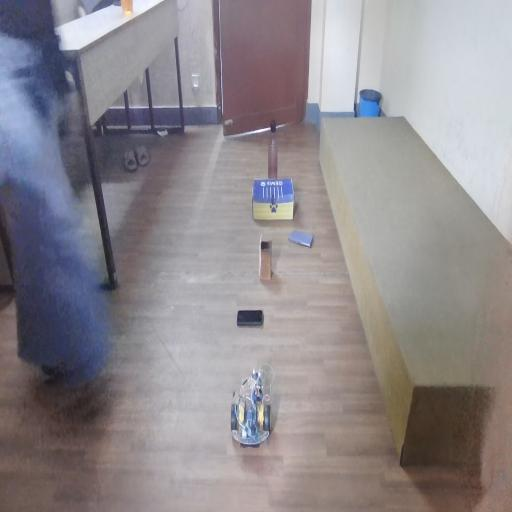Bottle: (265, 110, 297, 176)
car: (208, 370, 295, 464)
